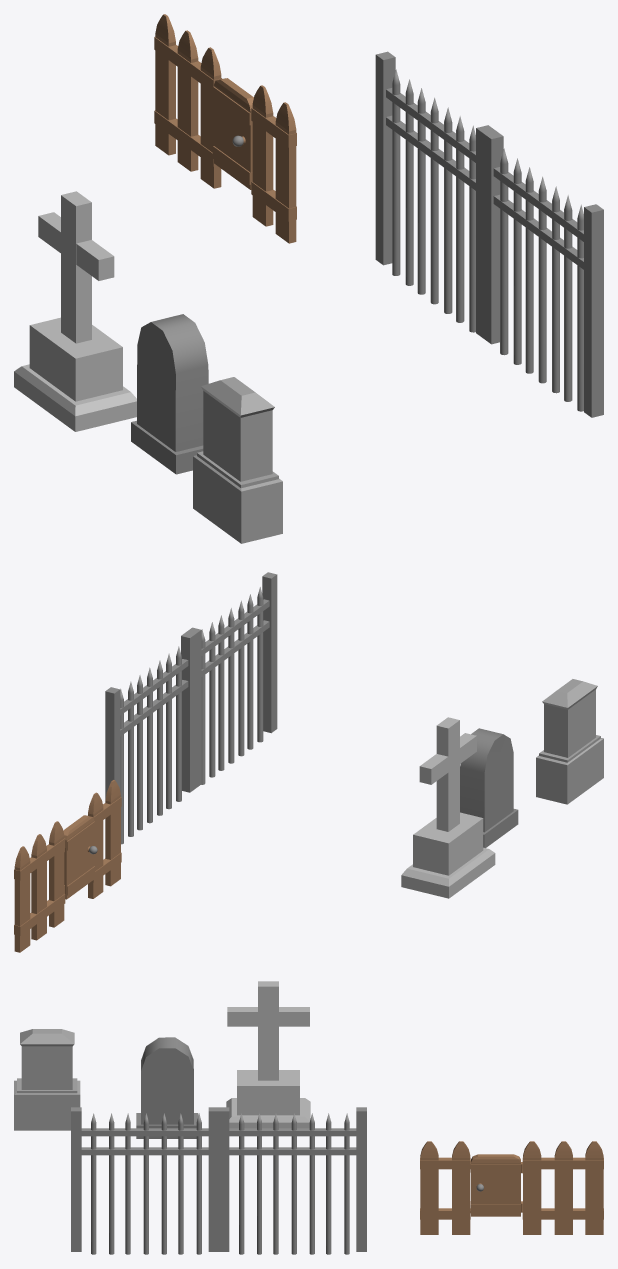
File: Graves_Fence_stuff.fbx
The picture shows the model from 3 angles, top to bottom: view 1: azimuth 30°, elevation 25°; view 2: azimuth 150°, elevation 25°; view 3: azimuth 270°, elevation 25°; orthographic projection. The views are drawn at different scales.
Visible parts, largest first — view 1: pCube11, pCube12, pCube6, pCube4, pCylinder2, pCube25, pCube23, pCylinder19, pCube22; view 2: pCube11, pCube12, pCube6, pCube4, pCylinder2, pCube23, pCube25, pCylinder19, pCube22; view 3: pCube11, pCube12, pCube6, pCube4, pCylinder2, pCube25, pCube23, pCylinder19, pCube22.
Part boxes in pixels (bbox=[...]): pCube11: bbox=[483, 131, 603, 417]; pCube12: bbox=[375, 51, 495, 338]; pCube6: bbox=[14, 191, 136, 431]; pCube4: bbox=[193, 377, 282, 543]; pCylinder2: bbox=[131, 314, 208, 474]; pCube25: bbox=[251, 85, 296, 243]; pCube23: bbox=[177, 30, 222, 188]; pCylinder19: bbox=[213, 78, 253, 189]; pCube22: bbox=[154, 14, 178, 155]; pCube11: bbox=[187, 572, 277, 788]; pCube12: bbox=[105, 632, 195, 844]; pCube6: bbox=[401, 717, 495, 898]; pCube4: bbox=[536, 679, 603, 804]; pCylinder2: bbox=[460, 728, 518, 847]; pCube23: bbox=[31, 821, 65, 940]; pCube25: bbox=[88, 780, 121, 898]; pCylinder19: bbox=[63, 815, 97, 899]; pCube22: bbox=[14, 846, 38, 952]; pCube11: bbox=[71, 1107, 218, 1254]; pCube12: bbox=[219, 1107, 366, 1254]; pCube6: bbox=[226, 981, 310, 1128]; pCube4: bbox=[14, 1029, 80, 1130]; pCylinder2: bbox=[136, 1037, 198, 1138]; pCube25: bbox=[420, 1141, 470, 1234]; pCube23: bbox=[522, 1141, 573, 1234]; pCylinder19: bbox=[470, 1154, 522, 1216]; pCube22: bbox=[571, 1141, 603, 1234].
Size of the model in its own units: 6.55 by 3.18 by 11.77.
